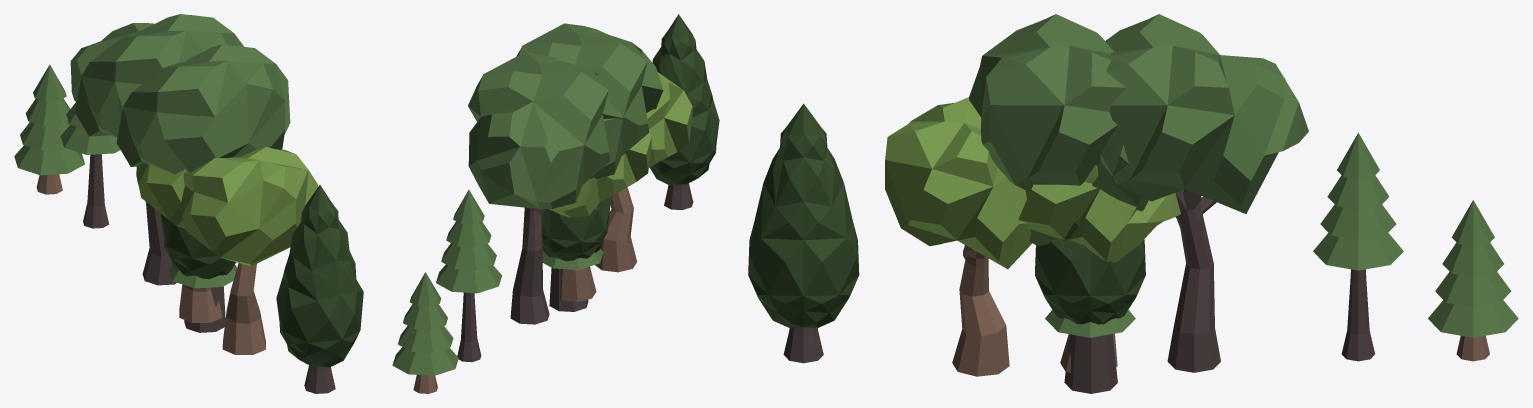
Rendered from Oak_Tree_Stubby.glb.
The picture shows the model from 3 angles, left to right: view 1: azimuth 30°, elevation 25°; view 2: azimuth 150°, elevation 25°; view 3: azimuth 270°, elevation 25°; orthographic projection. The views are drawn at different scales.
Parts seen in each view (by area): view 1: Sphere, Sphere.003, Cylinder.015, Sphere.002, Cylinder.009, Cylinder.013, Cylinder.007, Sphere.001, Cylinder.012, Cylinder.011, Cylinder.005, Cylinder.010 (+4 smaller); view 2: Sphere.002, Sphere, Cylinder.015, Cylinder.011, Cylinder.009, Cylinder.012, Cylinder.007, Sphere.003, Sphere.001, Cylinder.013, Cylinder.010, Cylinder.005 (+4 smaller); view 3: Sphere.002, Sphere, Cylinder.015, Sphere.003, Sphere.001, Cylinder.007, Cylinder.009, Cylinder.011, Cylinder.012, Cylinder.013, Cylinder.002, Cylinder.010 (+3 smaller).
Part boxes in pixels (x1,y1,x2,y2): Sphere: (116,44,290,174); Sphere.003: (179,147,317,266); Cylinder.015: (276,185,363,367); Sphere.002: (70,14,243,137); Cylinder.009: (14,64,84,175); Cylinder.013: (222,263,265,354); Cylinder.007: (160,213,235,279); Sphere.001: (136,162,186,227); Cylinder.012: (142,202,176,285); Cylinder.011: (60,94,120,154); Cylinder.005: (179,284,222,322); Cylinder.010: (83,154,109,228); Sphere.002: (468,52,624,209); Sphere: (516,23,663,179); Cylinder.015: (649,14,719,185); Cylinder.011: (436,190,502,293); Cylinder.009: (392,272,458,375); Cylinder.012: (510,207,549,324); Cylinder.007: (542,197,611,261); Sphere.003: (646,72,692,167); Sphere.001: (549,132,651,217); Cylinder.013: (595,187,636,272); Cylinder.010: (457,292,481,362); Cylinder.005: (560,266,596,302); Sphere.002: (1100,14,1308,213); Sphere: (969,14,1148,211); Cylinder.015: (748,103,859,327); Sphere.003: (885,97,1032,269); Sphere.001: (1018,165,1180,262); Cylinder.007: (1035,217,1145,324); Cylinder.009: (1428,200,1518,337); Cylinder.011: (1313,133,1403,270); Cylinder.012: (1167,189,1220,372); Cylinder.013: (952,245,1009,376); Cylinder.002: (1064,334,1117,393); Cylinder.010: (1341,269,1374,361).
Bounding box in the file's own units: 10.3 × 18.86 × 38.28.
